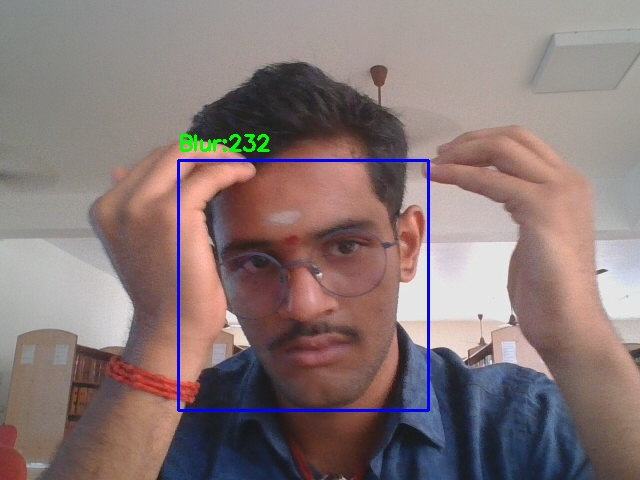real: (178, 160, 428, 410)
